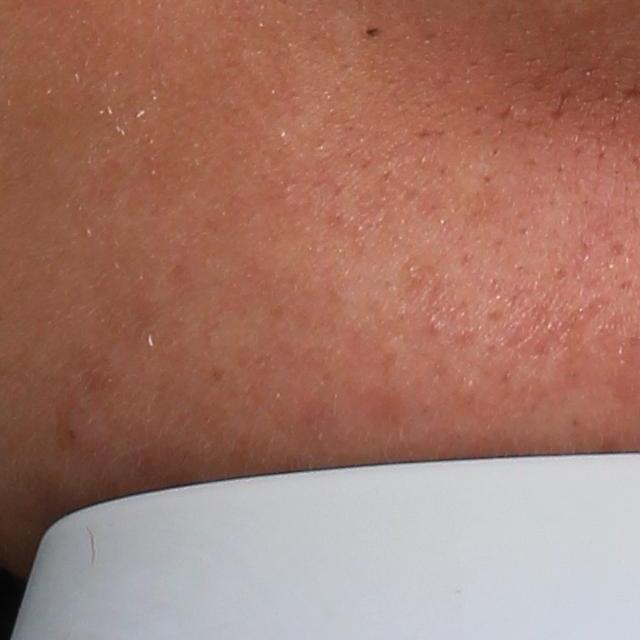nevus: (364, 27, 382, 37)
